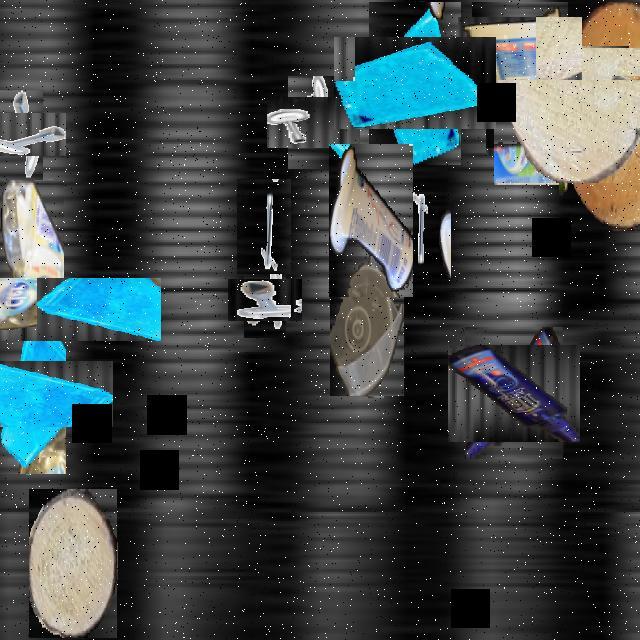glass: (351, 20, 479, 147), (0, 338, 89, 451)
metal: (278, 86, 350, 159), (237, 180, 291, 276), (401, 188, 451, 278), (0, 101, 54, 168), (236, 271, 294, 330)
plastic: (0, 228, 112, 390), (456, 336, 572, 450), (329, 144, 413, 297), (465, 9, 575, 119), (330, 240, 404, 396)
wood: (522, 38, 640, 192), (494, 80, 640, 183), (29, 489, 117, 638)
